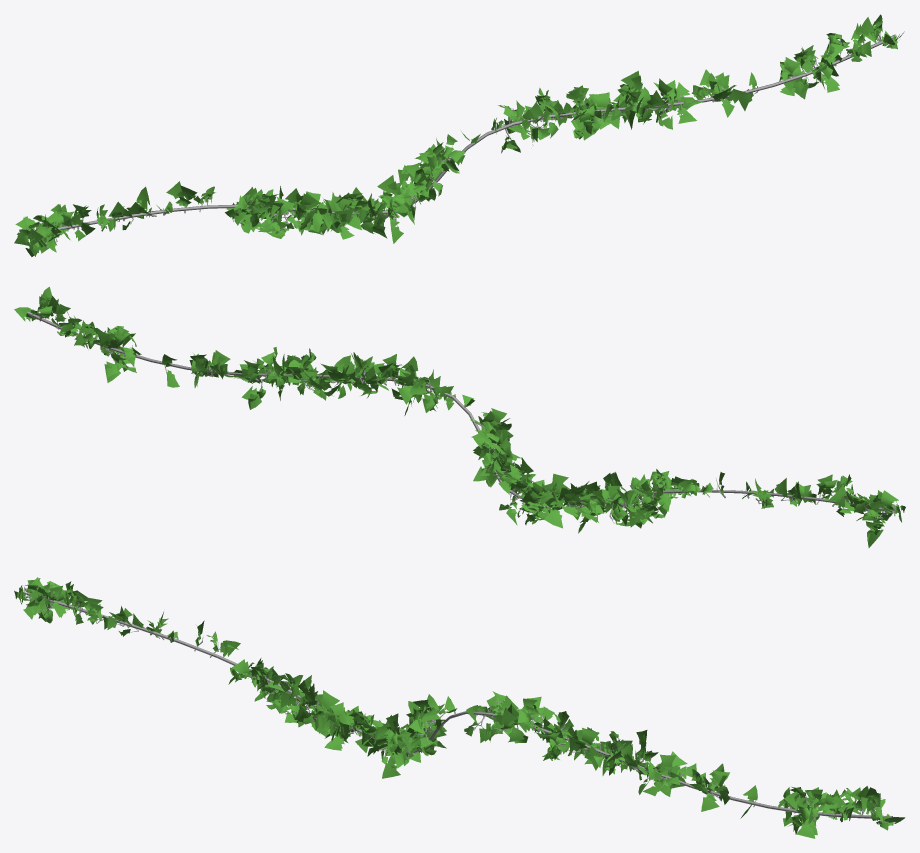
The model's file is ivyStraightC.fbx.
3 views of the same model, one above another, from view 1: azimuth 30°, elevation 25°; view 2: azimuth 150°, elevation 25°; view 3: azimuth 330°, elevation 25° (orthographic).
Visible parts, largest first — view 1: ivyStraightC_leaf, ivyStraightC_vine, ivyStraightC_stem; view 2: ivyStraightC_leaf, ivyStraightC_vine, ivyStraightC_stem; view 3: ivyStraightC_leaf, ivyStraightC_vine, ivyStraightC_stem.
Boxes of the visible parts, x1,y1,x2,y2 form: ivyStraightC_leaf: (14, 14, 904, 256); ivyStraightC_vine: (36, 34, 896, 231); ivyStraightC_stem: (26, 29, 900, 246); ivyStraightC_leaf: (14, 287, 905, 547); ivyStraightC_vine: (26, 311, 893, 512); ivyStraightC_stem: (37, 312, 895, 523); ivyStraightC_leaf: (14, 577, 905, 838); ivyStraightC_vine: (26, 592, 892, 818); ivyStraightC_stem: (23, 587, 893, 825).
Size of the model in its own units: 844 by 111 by 80.13.
